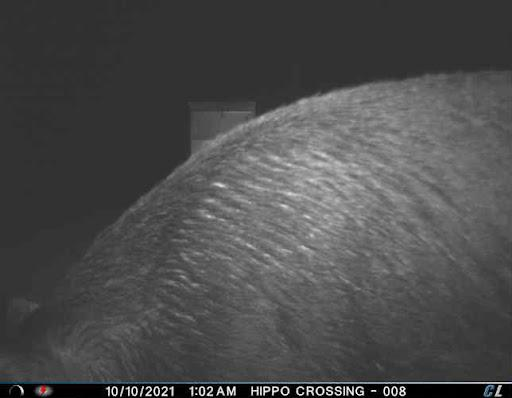Hog: (0, 65, 512, 383)
